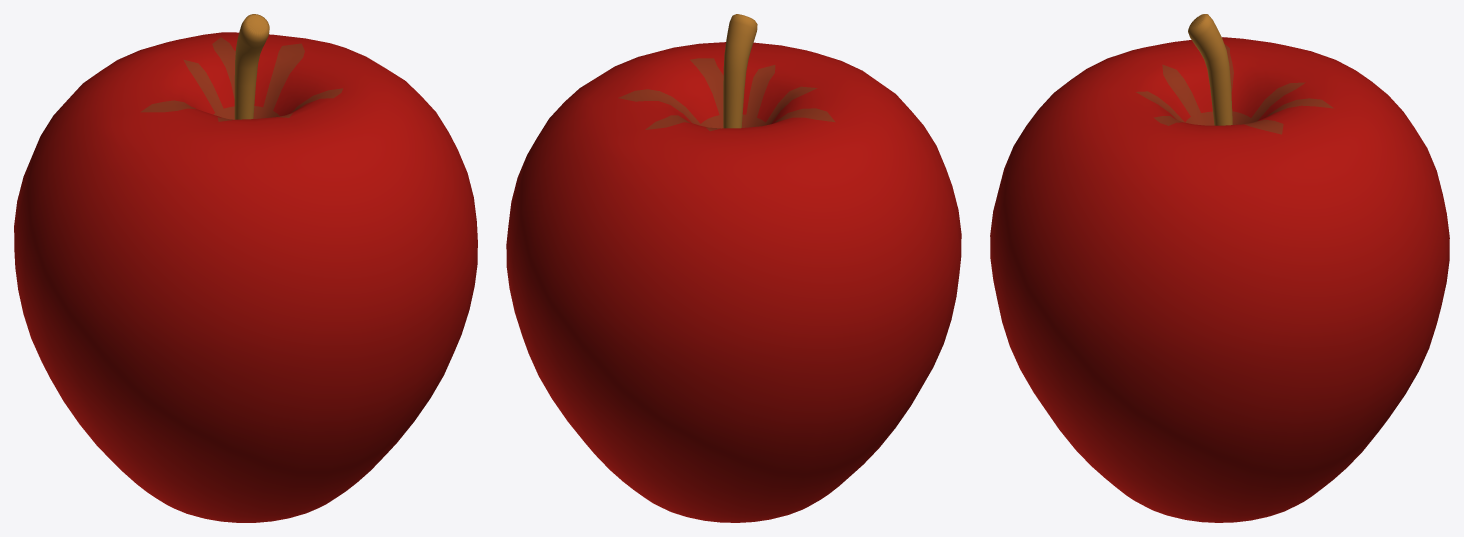
File: red_apple.fbx
The picture shows the model from 3 angles, left to right: view 1: azimuth 30°, elevation 25°; view 2: azimuth 150°, elevation 25°; view 3: azimuth 270°, elevation 25°; orthographic projection. The views are drawn at different scales.
Visible parts, largest first — view 1: Circle.001; view 2: Circle.001; view 3: Circle.001.
Boxes of the visible parts, x1,y1,x2,y2 form: Circle.001: [14, 14, 477, 522]; Circle.001: [506, 14, 961, 522]; Circle.001: [990, 14, 1449, 522].
Size of the model in its own units: 83.95 by 98.25 by 83.95.
